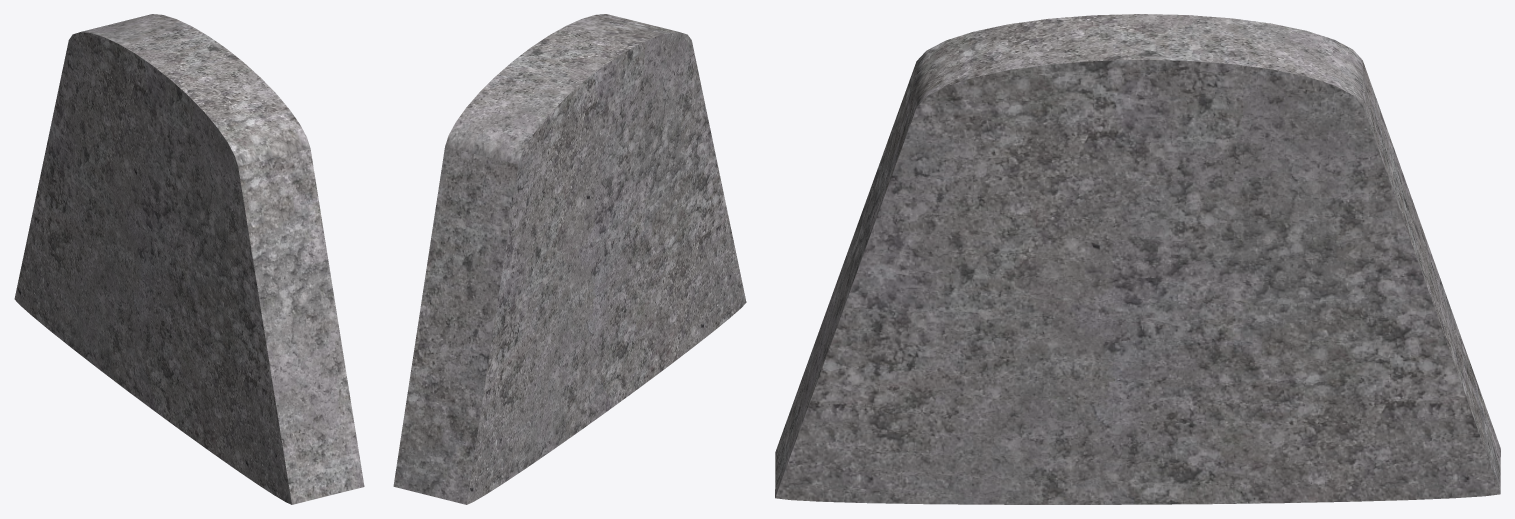
Rendered from TombstoneGeneric_1.fbx.
3 views of the same model, side by side, from view 1: azimuth 30°, elevation 25°; view 2: azimuth 150°, elevation 25°; view 3: azimuth 270°, elevation 25° (orthographic). The views are drawn at different scales.
Visible parts, largest first — view 1: pCylinder8; view 2: pCylinder8; view 3: pCylinder8.
Boxes of the visible parts, x1,y1,x2,y2 form: pCylinder8: [14, 14, 364, 504]; pCylinder8: [393, 14, 746, 504]; pCylinder8: [775, 14, 1500, 504].
Bounding box in the file's own units: 4.97 × 21.51 × 31.62.
1 material, 1 textured.
